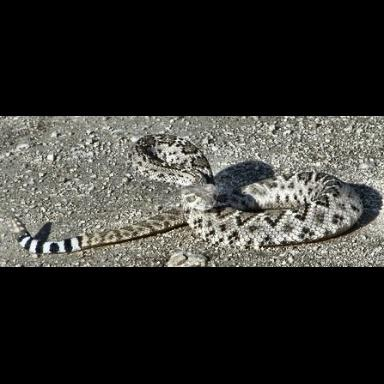snake: (4, 126, 375, 259)
